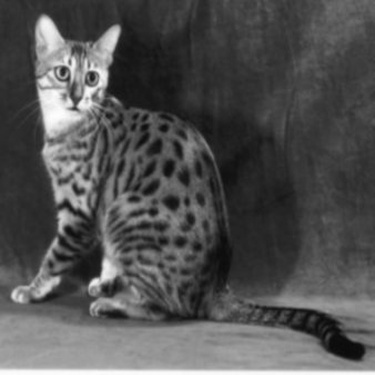cat: (21, 6, 366, 364)
